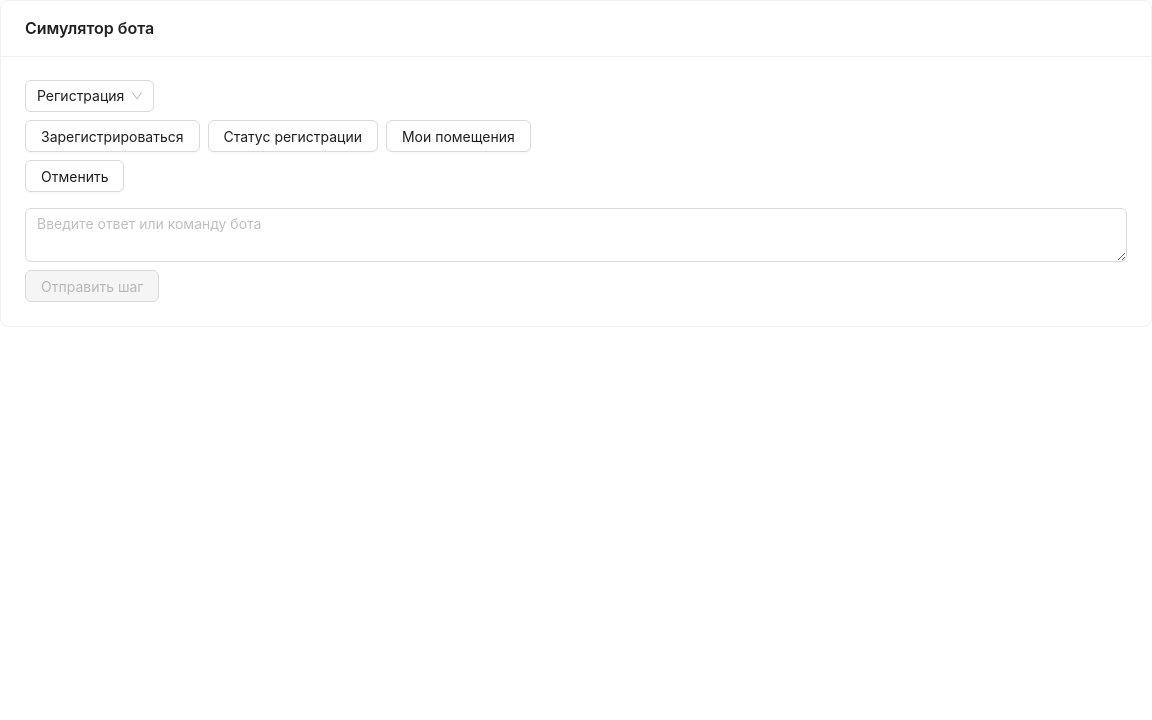
Test: переходит в опросы и отправляет точную кнопку личного ответа
Type "/polls" into the text box named "Сообщение симулятору".
click(576, 235); type("/polls")  # box [25,208,1127,262]
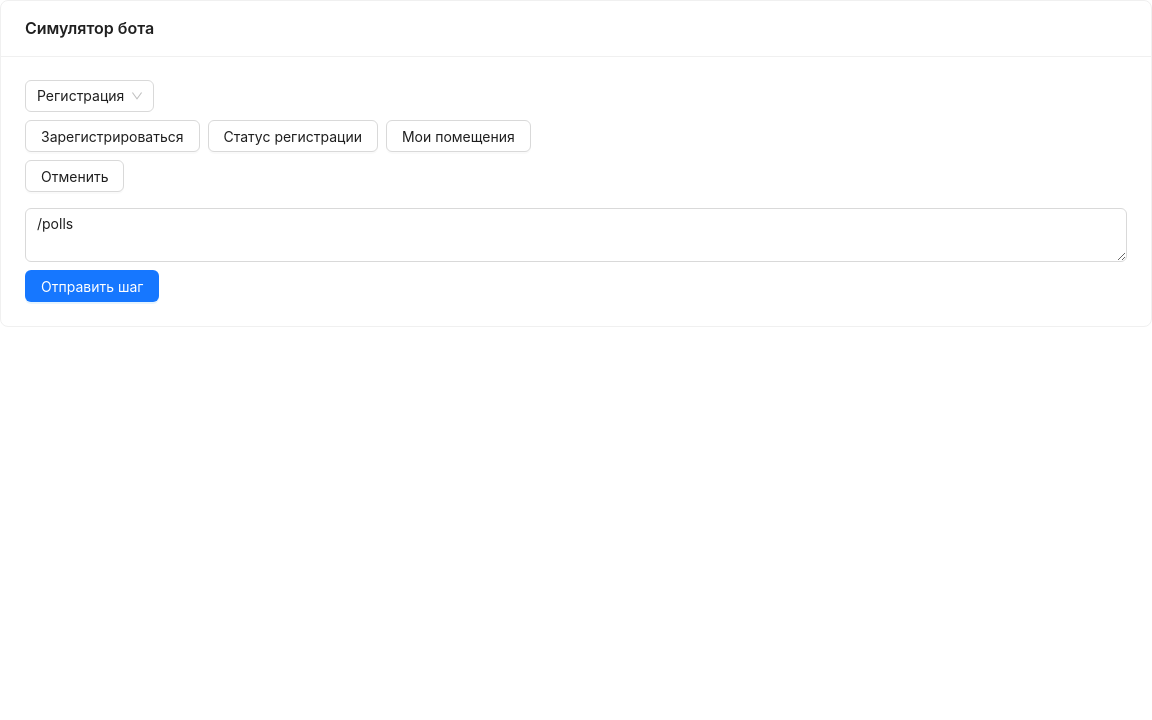
Click the button "Отправить шаг".
click(92, 286)  # box [25,270,159,302]
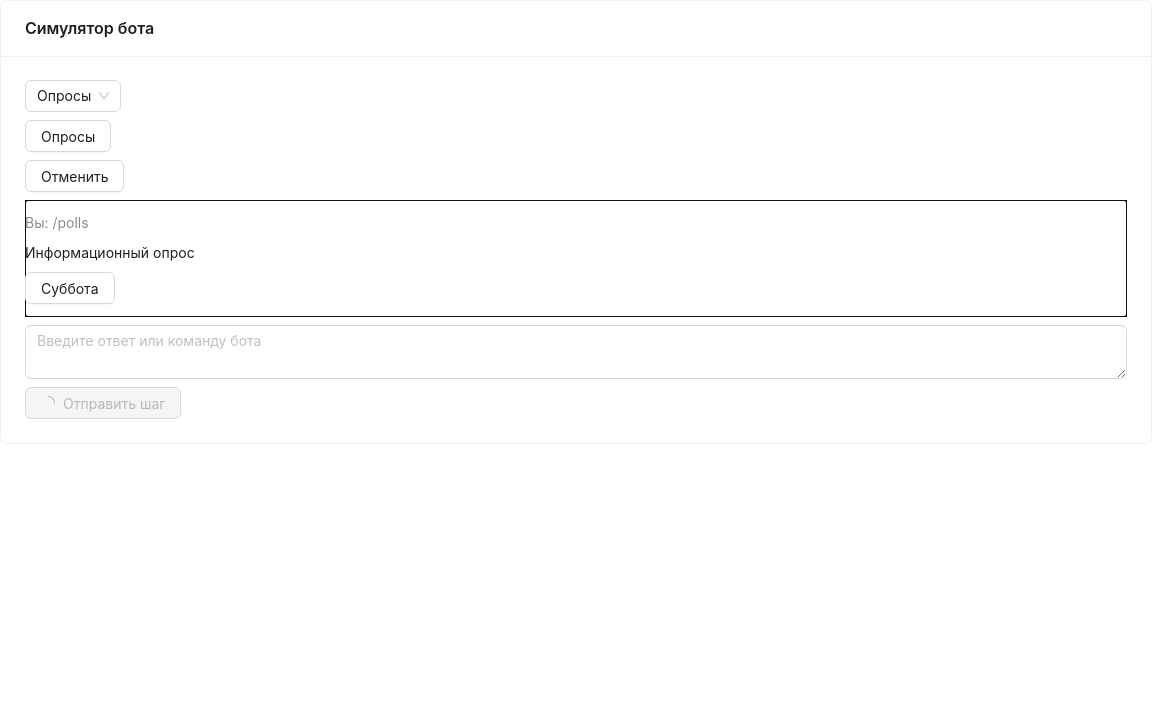
Click the button "Суббота".
click(70, 288)  # box [25,272,114,304]
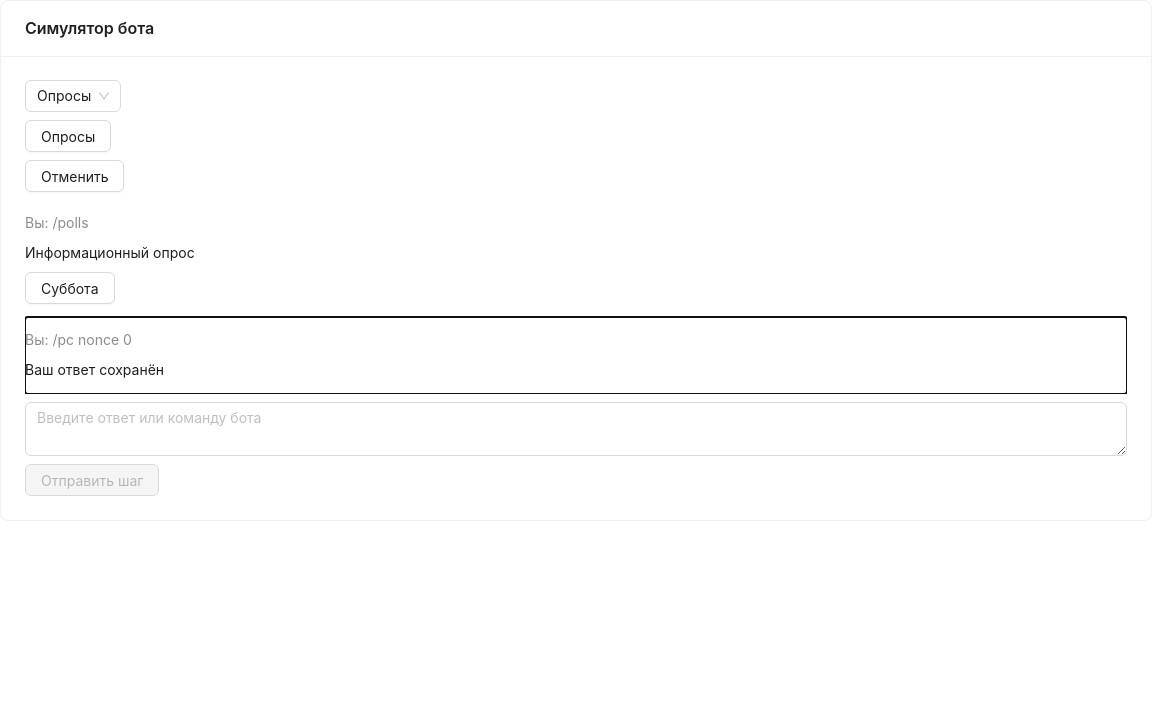
expect the text "Ваш ответ сохранён" is shown: met, box [25,361,164,378]
